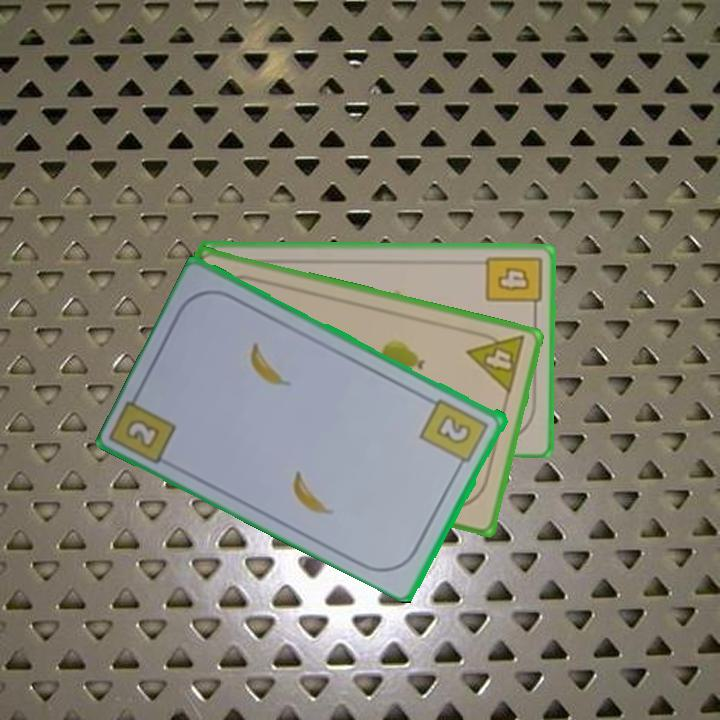2b: (417, 395, 492, 473), (122, 415, 164, 452)
4b: (483, 252, 544, 316)
4p: (463, 326, 529, 397)
